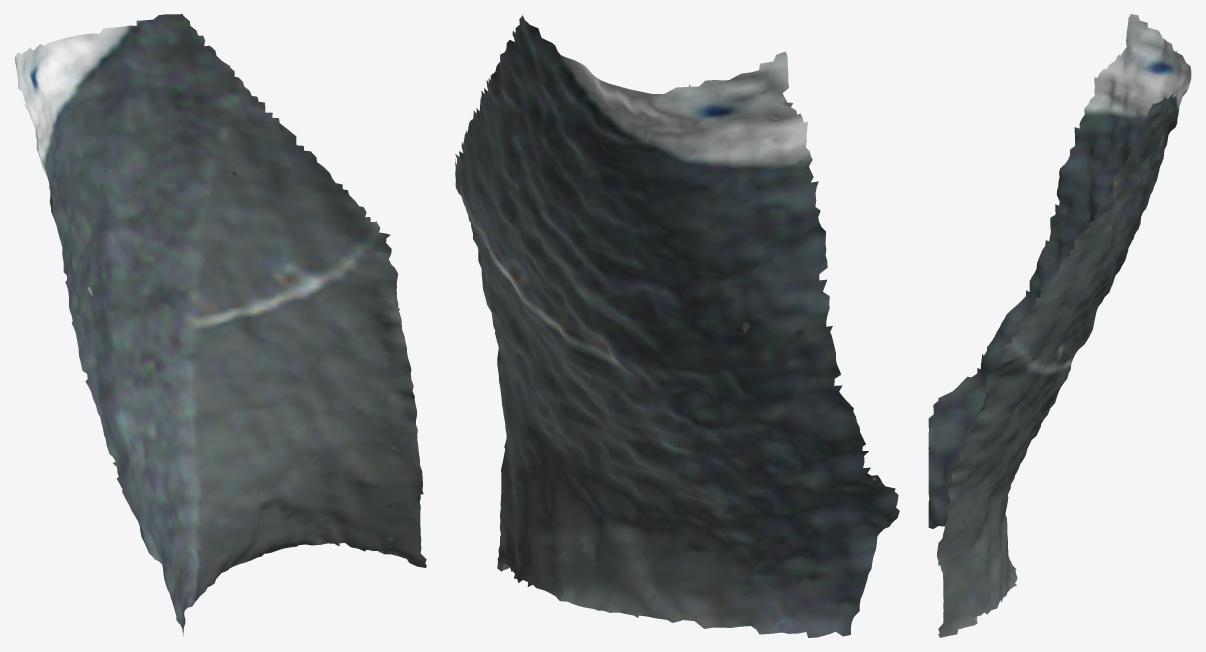
File: textured_mesh_cropped_simplified_noHoles.obj
3 views of the same model, side by side, from view 1: azimuth 30°, elevation 25°; view 2: azimuth 150°, elevation 25°; view 3: azimuth 270°, elevation 25° (orthographic). The views are drawn at different scales.
Size of the model in its own units: 0.1079 by 0.1719 by 0.0843.
